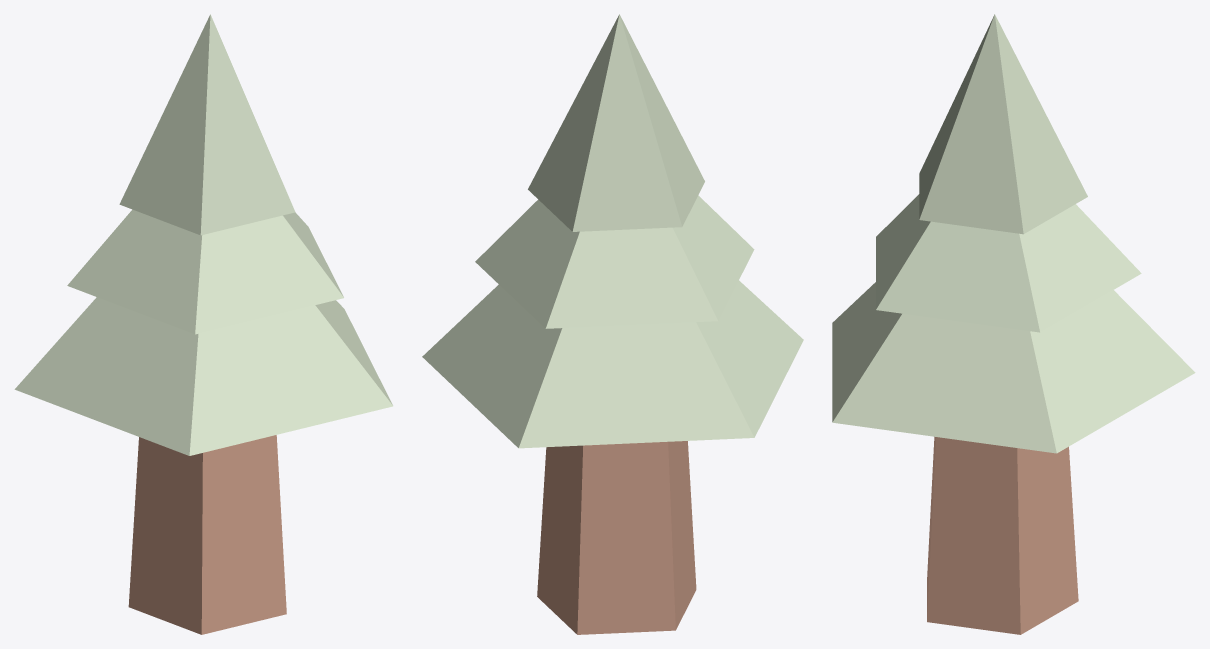
File: trees.fbx
The picture shows the model from 3 angles, left to right: view 1: azimuth 30°, elevation 25°; view 2: azimuth 150°, elevation 25°; view 3: azimuth 270°, elevation 25°; orthographic projection.
Visible parts, largest first — view 1: trees; view 2: trees; view 3: trees.
Boxes of the visible parts, left/top/right/bottom form: trees: left=14, top=14, right=392, bottom=634; trees: left=422, top=14, right=803, bottom=634; trees: left=832, top=14, right=1195, bottom=634.
Bounding box in the file's own units: 329 × 558 × 313.
